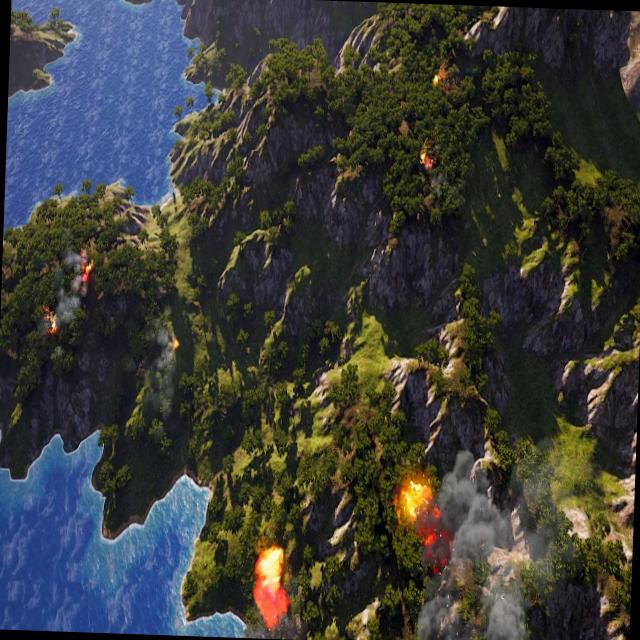fire: (393, 474, 435, 528), (256, 546, 286, 592), (78, 243, 93, 282), (40, 306, 56, 334), (419, 146, 434, 168), (431, 68, 444, 88), (170, 336, 179, 352)
smoke: (410, 445, 635, 640), (149, 302, 190, 428), (52, 242, 88, 331), (247, 584, 302, 640)
